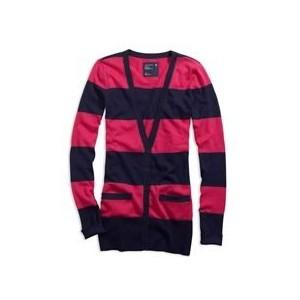C_cardigan sweater: (59, 46, 247, 283)
